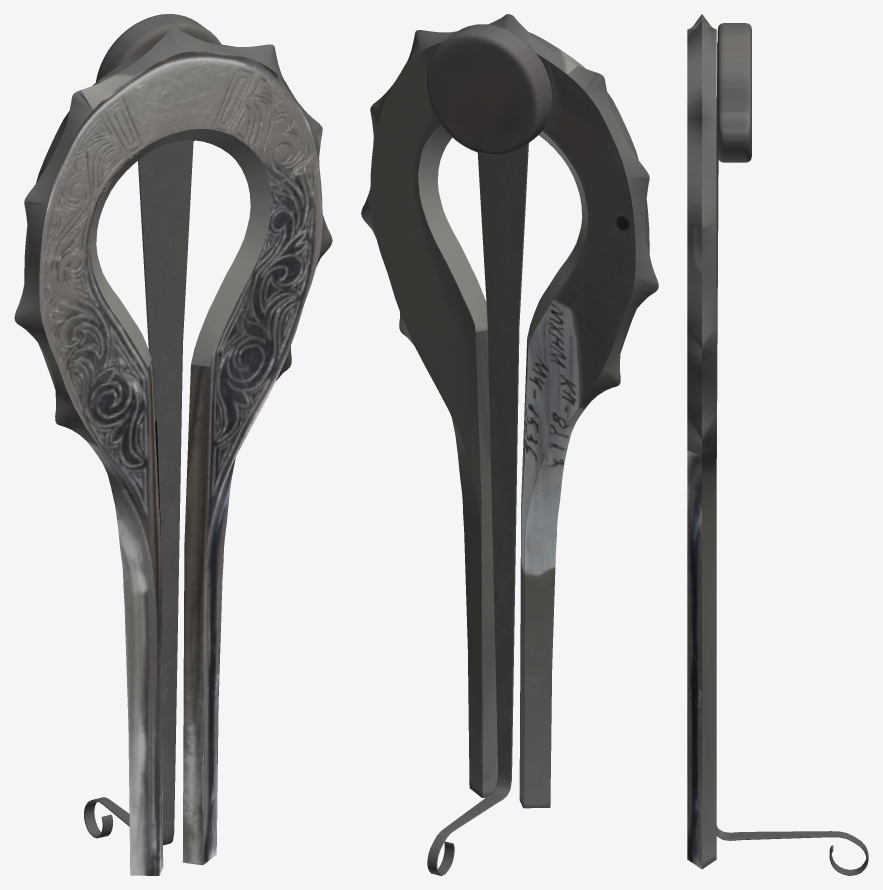
Rendered from khomus.glb.
3 views of the same model, side by side, from view 1: azimuth 30°, elevation 25°; view 2: azimuth 150°, elevation 25°; view 3: azimuth 270°, elevation 25° (orthographic). The views are drawn at different scales.
Visible parts, largest first — view 1: PCylinder, PCylinder.002, PCylinder.001; view 2: PCylinder, PCylinder.002, PCylinder.001; view 3: PCylinder, PCylinder.001, PCylinder.002.
Boxes of the visible parts, bbox=[...] form: PCylinder: bbox=[14, 27, 332, 875]; PCylinder.002: bbox=[84, 140, 193, 845]; PCylinder.001: bbox=[96, 14, 221, 140]; PCylinder: bbox=[361, 14, 658, 808]; PCylinder.002: bbox=[427, 143, 528, 875]; PCylinder.001: bbox=[426, 24, 552, 155]; PCylinder: bbox=[687, 14, 716, 869]; PCylinder.001: bbox=[717, 23, 751, 162]; PCylinder.002: bbox=[716, 42, 868, 875].
Bounding box in the file's own units: 1.86 × 4.81 × 0.9262.
Materials: 2 (2 with a texture image).
